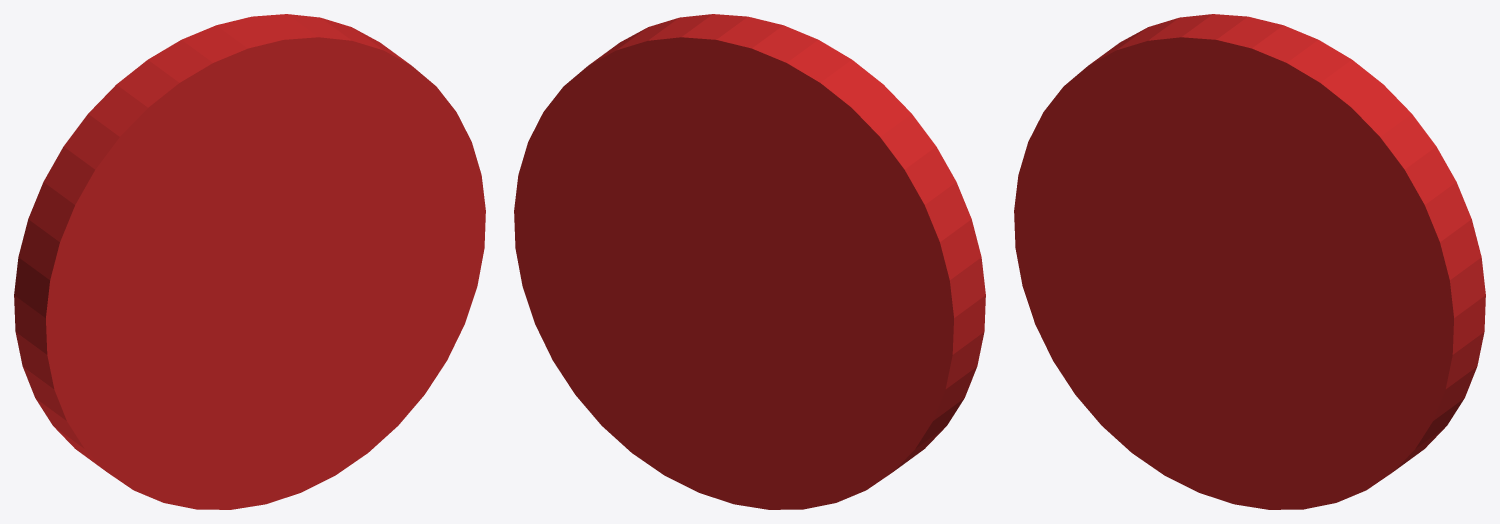
File: converted_link2_18_d12626ff.obj
3 renders of one model, left to right at view 1: azimuth 30°, elevation 25°; view 2: azimuth 150°, elevation 25°; view 3: azimuth 330°, elevation 25°, orthographic.
Bounding box in the file's own units: 0.000799 × 0.000798 × 0.0001.
